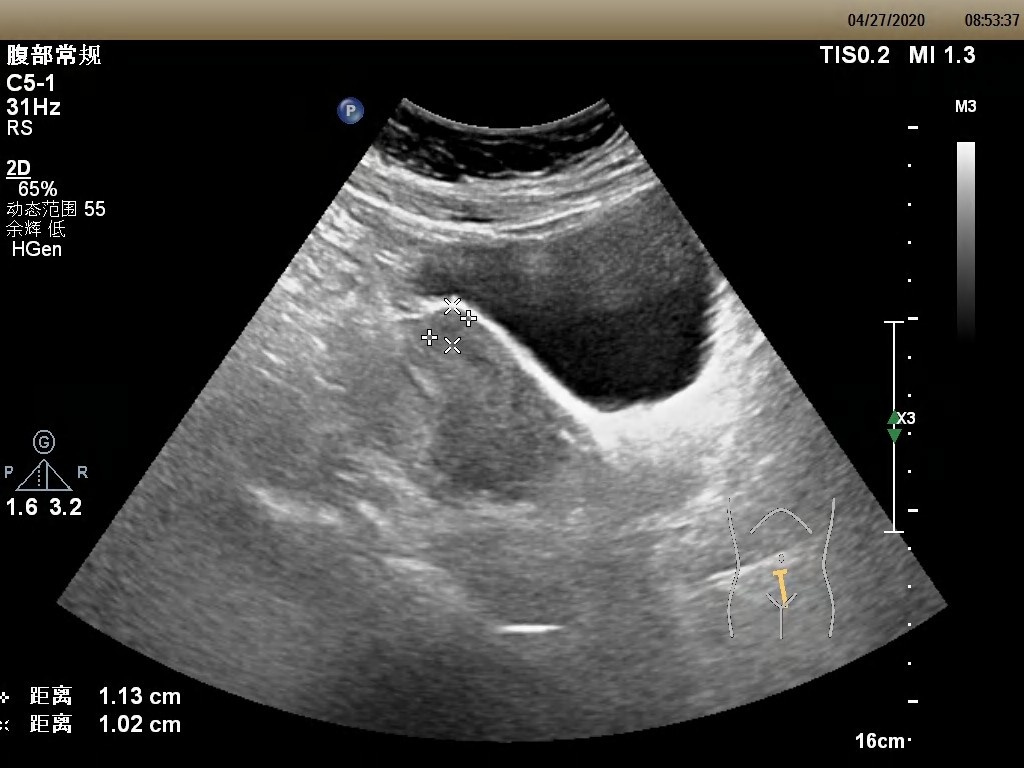肌瘤: (431, 307, 470, 346)
